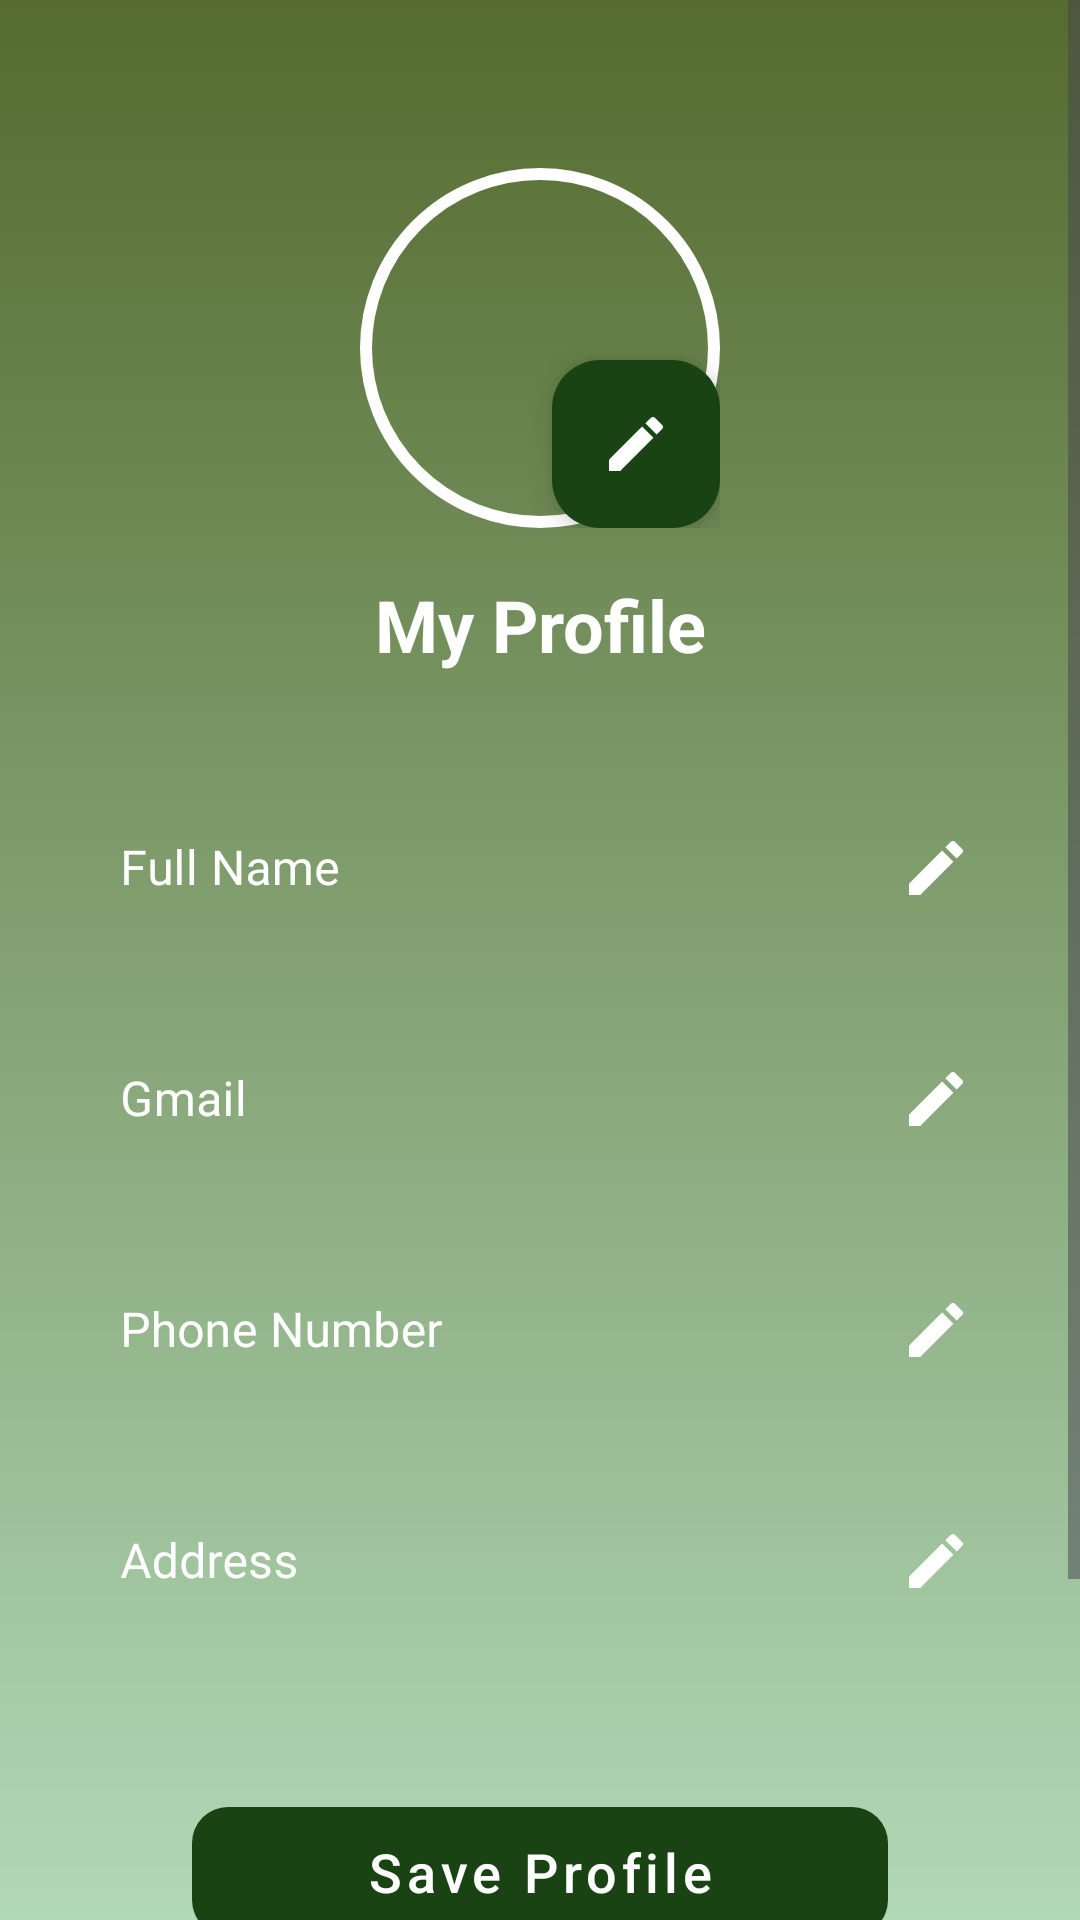

Screen size 1080px x 1920px. Icon name, then its center in pixels as [x,y]:
Edit Image: [636,444]
